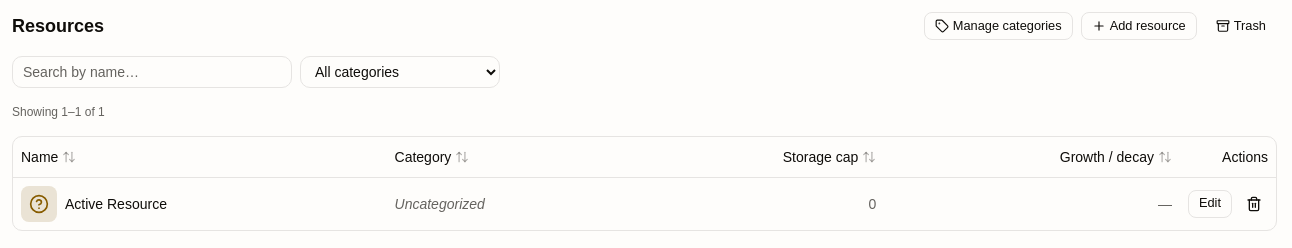
Test case: ResourcesConfigPanel › shows trashed resources when trash view is toggled
Expected: the text "Active Resource" is shown, [65, 194, 167, 214]
Expected: the text "Trashed Resource" is not shown
Click the button with aria-label "Show trash" at (1241,26), box [1205, 12, 1277, 40]
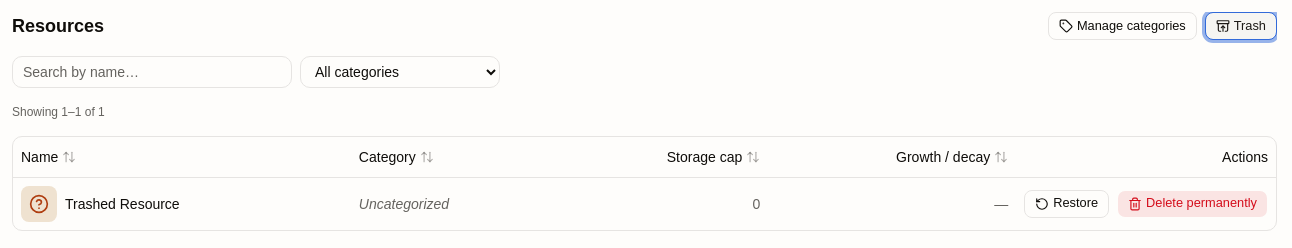
Expected: the text "Trashed Resource" is shown, [65, 194, 180, 214]
Expected: the button with aria-label "Hide trash" is shown, [1205, 12, 1277, 40]
